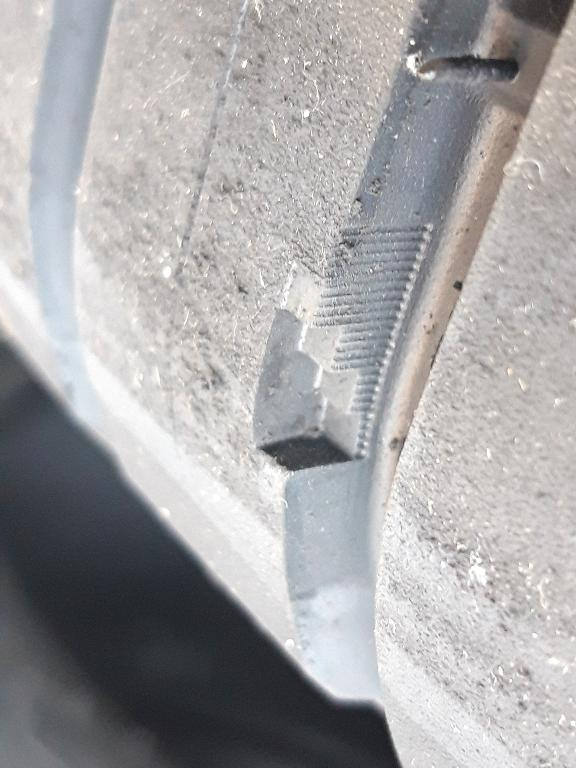temoin:75: (246, 252, 410, 486)
